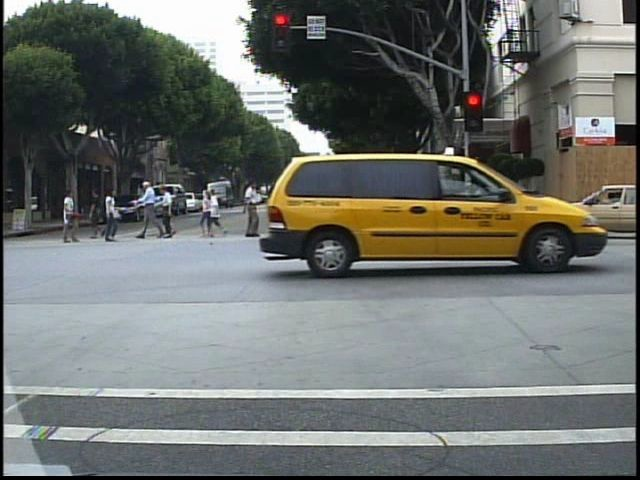person: (137, 175, 164, 244), (308, 167, 334, 238), (236, 181, 265, 239), (55, 187, 85, 243), (98, 187, 121, 245), (159, 186, 182, 239), (87, 187, 109, 242)
